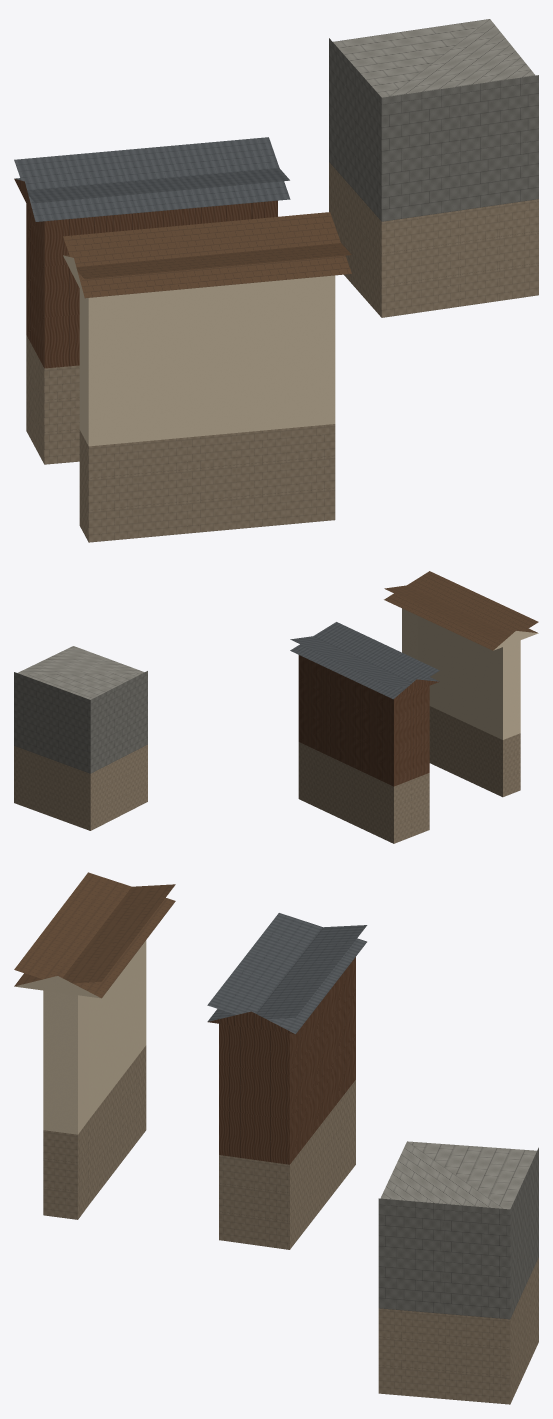
File: bld_c10_8_509.gltf
3 renders of one model, top to bottom at view 1: azimuth 30°, elevation 25°; view 2: azimuth 150°, elevation 25°; view 3: azimuth 270°, elevation 25°, orthographic. The views are drawn at different scales.
Visible parts, largest first — view 1: bld_c10_8_509; view 2: bld_c10_8_509; view 3: bld_c10_8_509.
Part boxes in pixels (x1=…): bld_c10_8_509: x1=14, y1=19, x2=538, y2=542; bld_c10_8_509: x1=14, y1=571, x2=538, y2=843; bld_c10_8_509: x1=14, y1=872, x2=538, y2=1404.
Bounding box in the file's own units: 35.71 × 15.2 × 28.48.
Materials: 10 (10 with a texture image).
